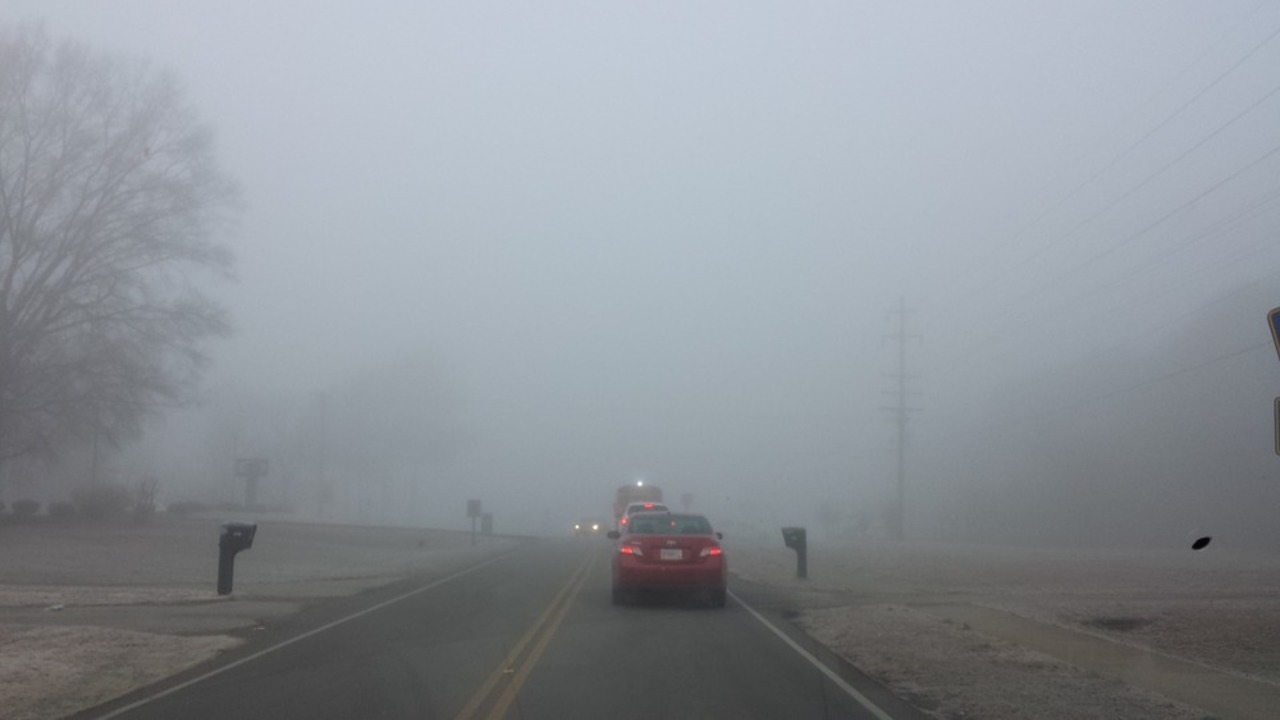car: (610, 508, 724, 609), (617, 504, 662, 531), (572, 515, 601, 536)
truck: (610, 485, 663, 528)
